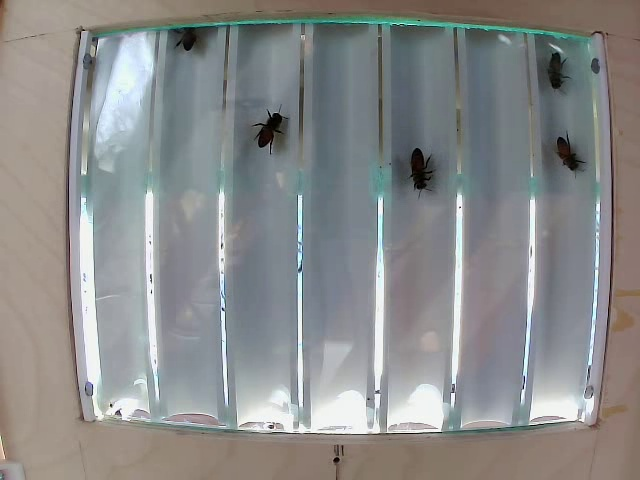bee: (172, 31, 224, 83), (253, 112, 298, 163), (403, 146, 440, 204), (542, 44, 570, 97), (553, 127, 581, 177)
